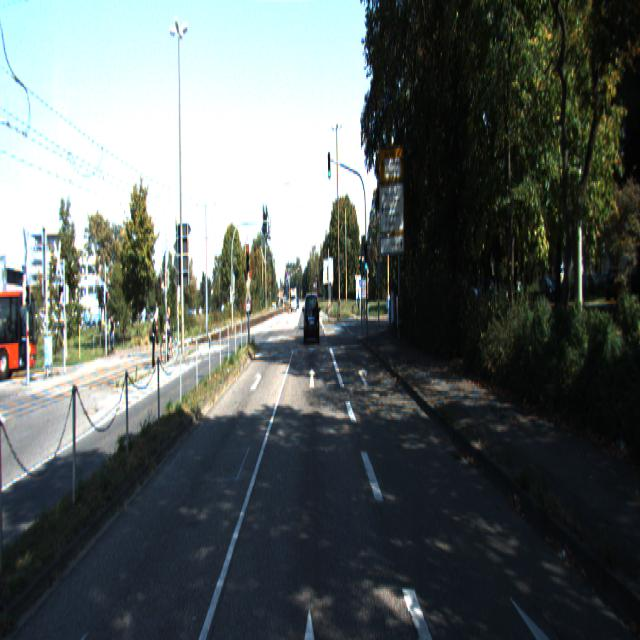Car: (0, 284, 38, 376), (304, 291, 321, 344)
